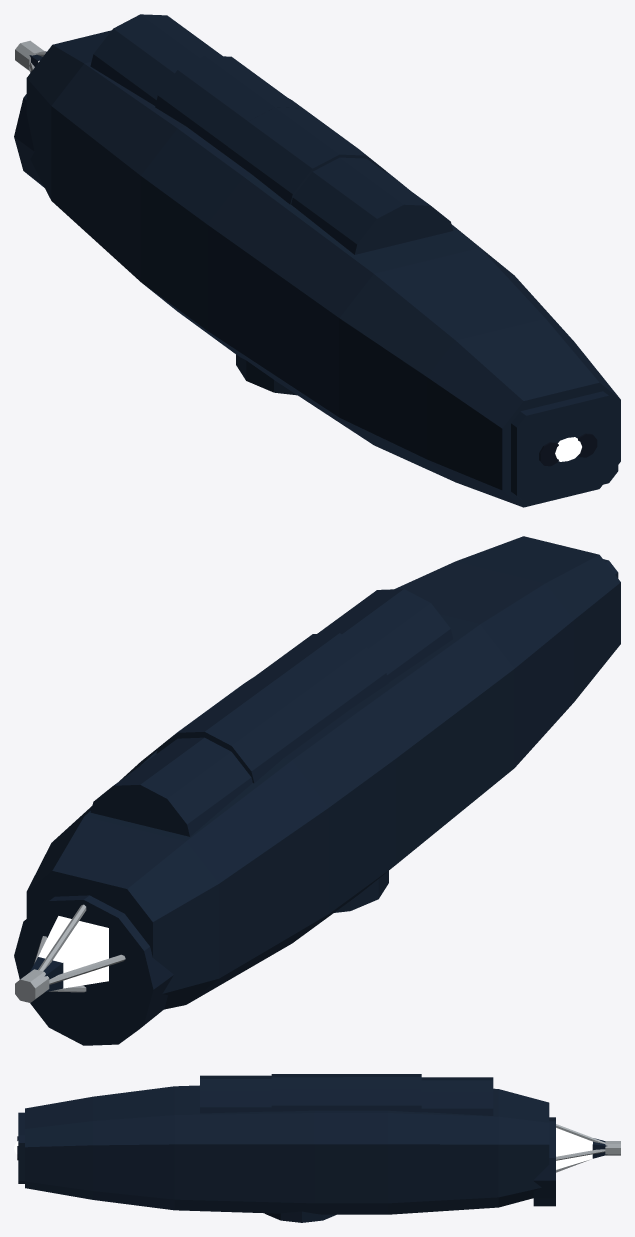
3 views of the same model, one above another, from view 1: azimuth 30°, elevation 25°; view 2: azimuth 150°, elevation 25°; view 3: azimuth 270°, elevation 25° (orthographic). The views are drawn at different scales.
Visible parts, largest first — view 1: RIMWARD_HULL; view 2: RIMWARD_HULL, RIMWARD_EMISSIVE; view 3: RIMWARD_HULL, RIMWARD_EMISSIVE.
Part boxes in pixels (x1,y1,x2,y2): RIMWARD_HULL: (14,14,620,507); RIMWARD_HULL: (14,536,620,1045); RIMWARD_EMISSIVE: (38,916,108,988); RIMWARD_HULL: (17,1074,620,1222); RIMWARD_EMISSIVE: (556,1128,592,1169).
Bounding box in the file's own units: 2.16 × 2.52 × 10.85.
